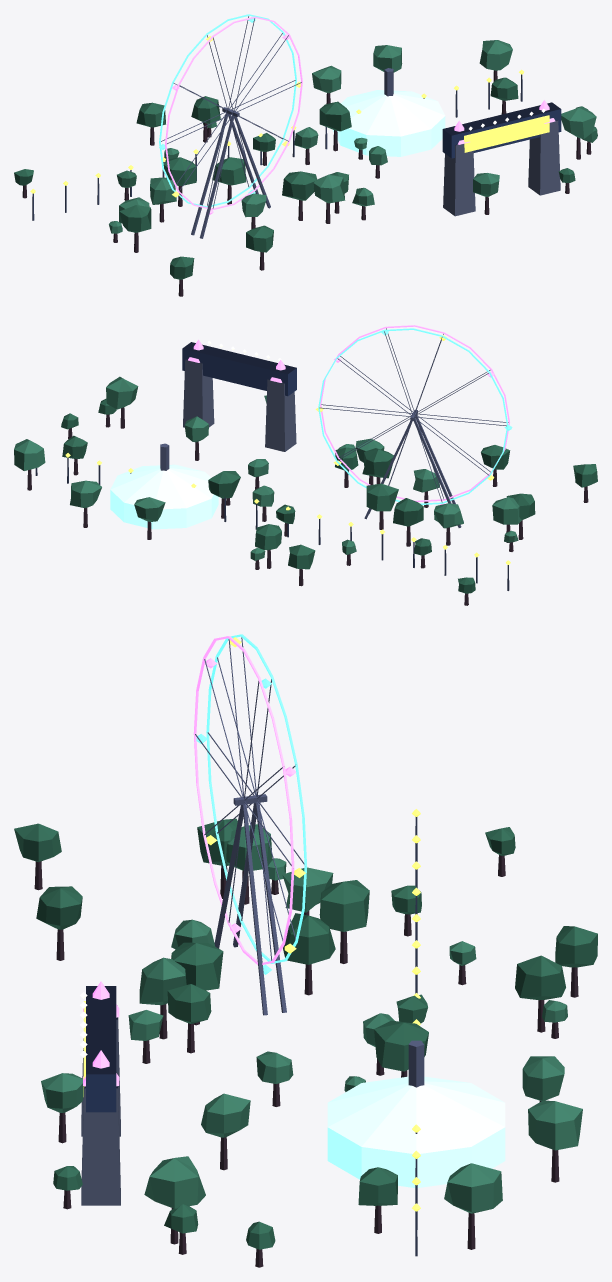
The model's file is W1_Mid_ZooPark.fbx.
3 renders of one model, top to bottom at view 1: azimuth 30°, elevation 25°; view 2: azimuth 150°, elevation 25°; view 3: azimuth 270°, elevation 25°, orthographic. The views are drawn at different scales.
Parts seen in each view (by area): view 1: W1_Mid_ZooPark; view 2: W1_Mid_ZooPark; view 3: W1_Mid_ZooPark.
Part boxes in pixels (<box>): W1_Mid_ZooPark: <box>14,14,597,296</box>; W1_Mid_ZooPark: <box>14,325,597,605</box>; W1_Mid_ZooPark: <box>14,634,597,1267</box>.
Size of the model in its own units: 118 by 44.22 by 70.37.
